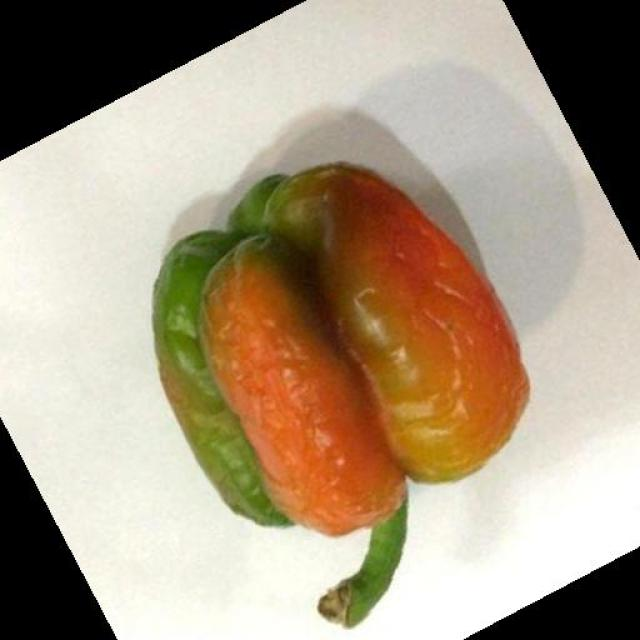Stale_Capsicum: (109, 139, 562, 599)
